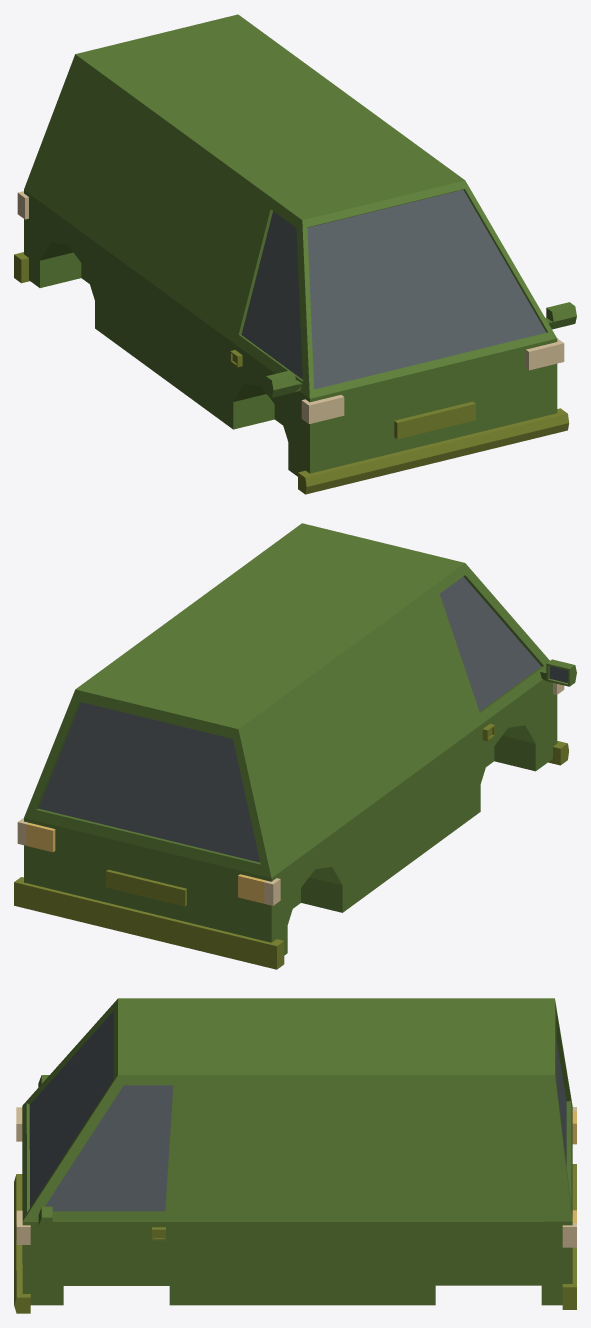
Rendered from Car_10.fbx.
3 renders of one model, top to bottom at view 1: azimuth 30°, elevation 25°; view 2: azimuth 150°, elevation 25°; view 3: azimuth 270°, elevation 25°, orthographic. The views are drawn at different scales.
Visible parts, largest first — view 1: Car_10; view 2: Car_10; view 3: Car_10.
Part boxes in pixels (<box>): Car_10: <box>14,14,576,494</box>; Car_10: <box>14,523,576,969</box>; Car_10: <box>14,998,576,1313</box>.
Size of the model in its own units: 2.14 by 1.51 by 3.57.
